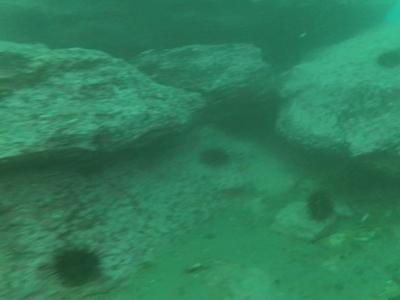urchin: (54, 242, 105, 288), (308, 189, 336, 220), (201, 147, 232, 171), (378, 48, 398, 65)
